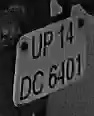0: (66, 55, 75, 83)
1: (57, 25, 65, 51), (76, 54, 83, 78)
4: (66, 22, 77, 47), (57, 60, 66, 89)
6: (49, 64, 58, 90)
C: (33, 68, 45, 97)
D: (18, 73, 32, 103)
P: (42, 30, 54, 58)
U: (28, 33, 43, 59)
